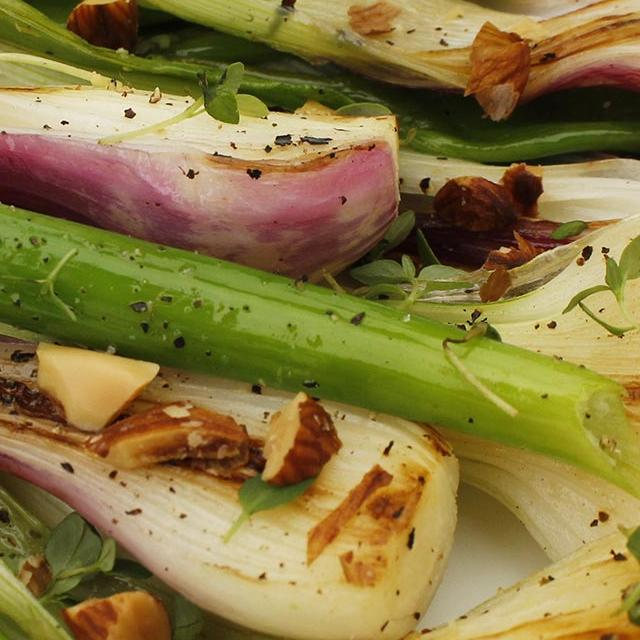green_onion: (0, 203, 640, 499), (0, 32, 398, 278)
